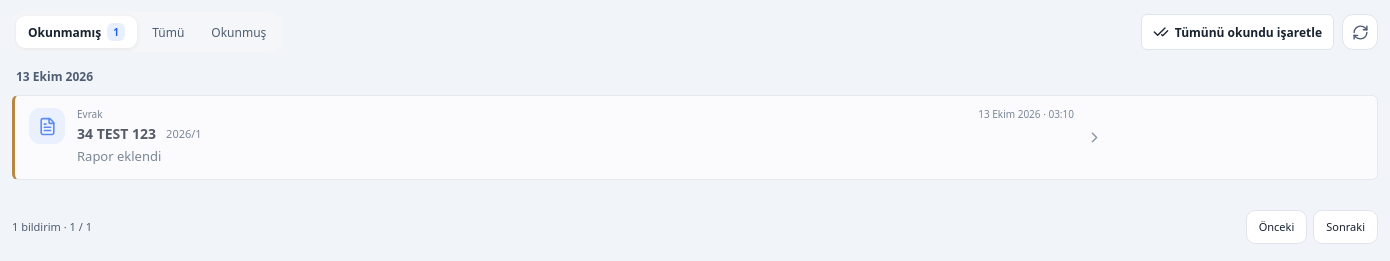
Scenario: notification card actions › marks the whole inbox even from the read filter and preserves that filter
The width and height of the screenshot is (1390, 261).
Click the button "Okunmuş": x=239, y=32 [199, 16, 278, 48]
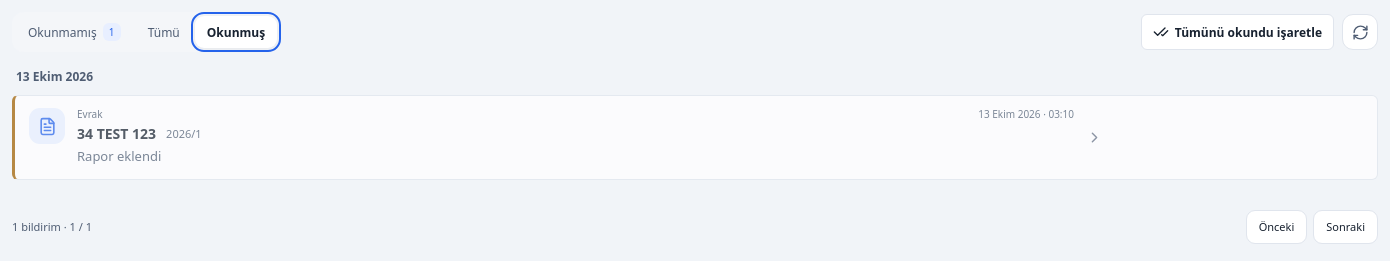
Expected: the text "Rapor eklendi" is shown, [77, 147, 161, 165]
Click the button "Tümünü okundu işaretle": x=1237, y=32 [1141, 14, 1334, 50]
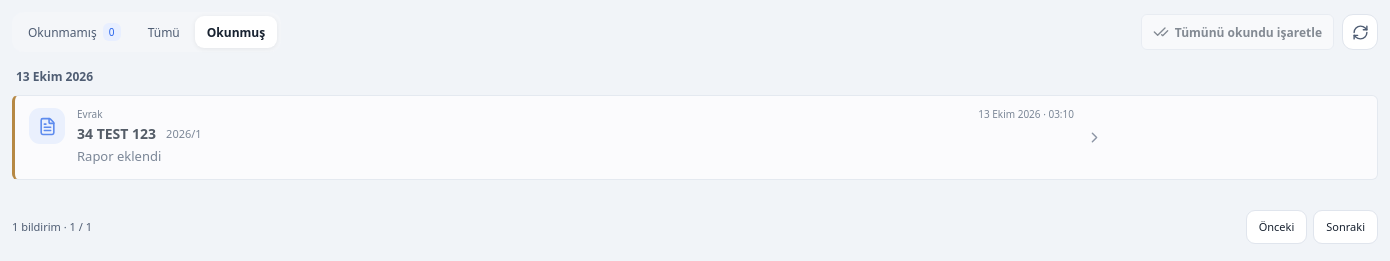
Now the button "Tümünü okundu işaretle" is disabled, box [1141, 14, 1334, 50]
